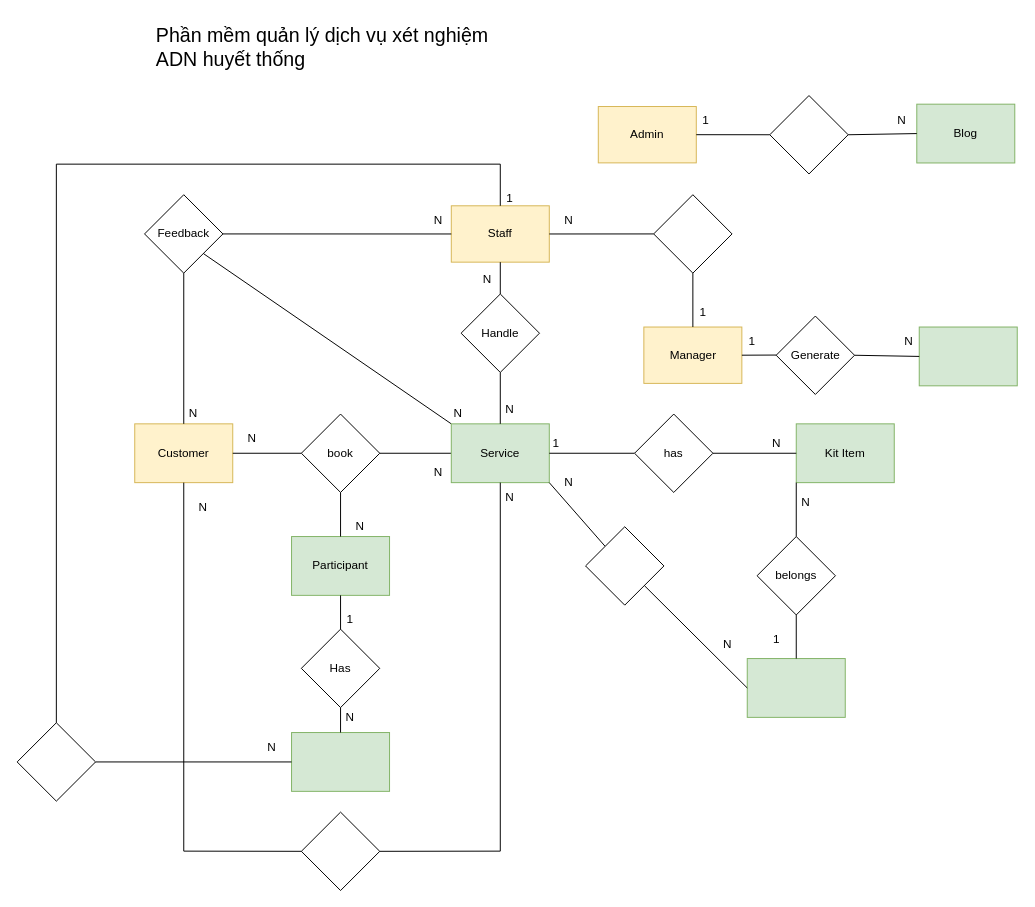
The diagram is 1035 pixels wide and 907 high, and some of its shapes have lost their labels. The shapes that lost their labels are listed below. From the top down, each one's centre as x and y in pixels, then its label:
At point 808,134: "Post".
At point 692,233: "monitor".
At point 967,356: "Report".
At point 624,565: "use".
At point 795,687: "Kit Type".
At point 56,761: "collect".
At point 340,761: "TestSample".
At point 340,851: "Result".
